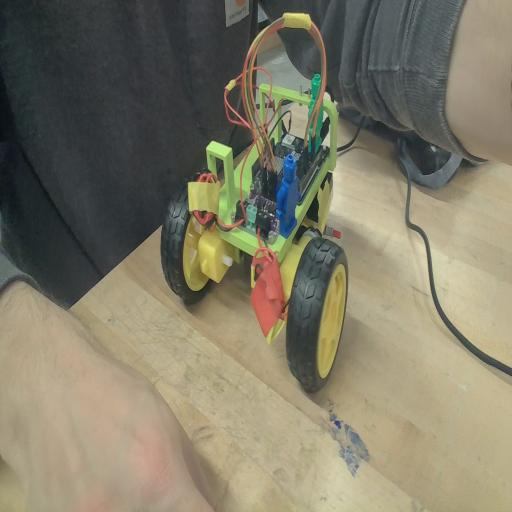blue LEGO minifig: (274, 154, 301, 240)
green LEGO minifig: (307, 69, 327, 155)
